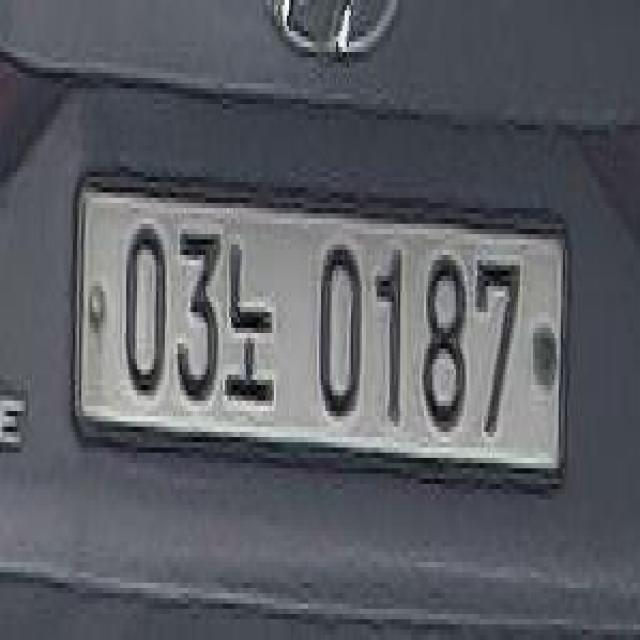illegal_plate: (76, 168, 562, 505)
